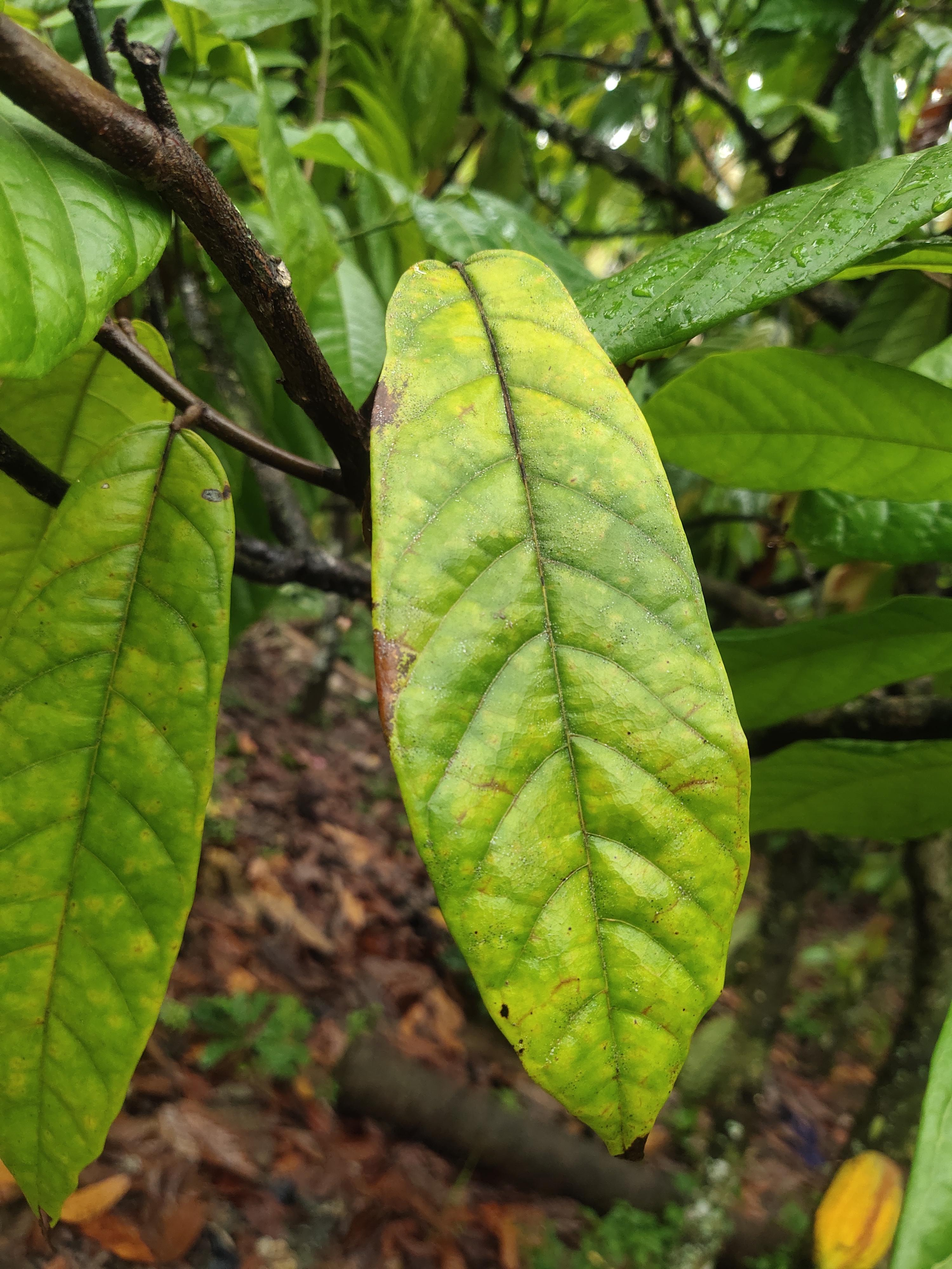deficiencia_potasio: (366, 234, 770, 1165)
